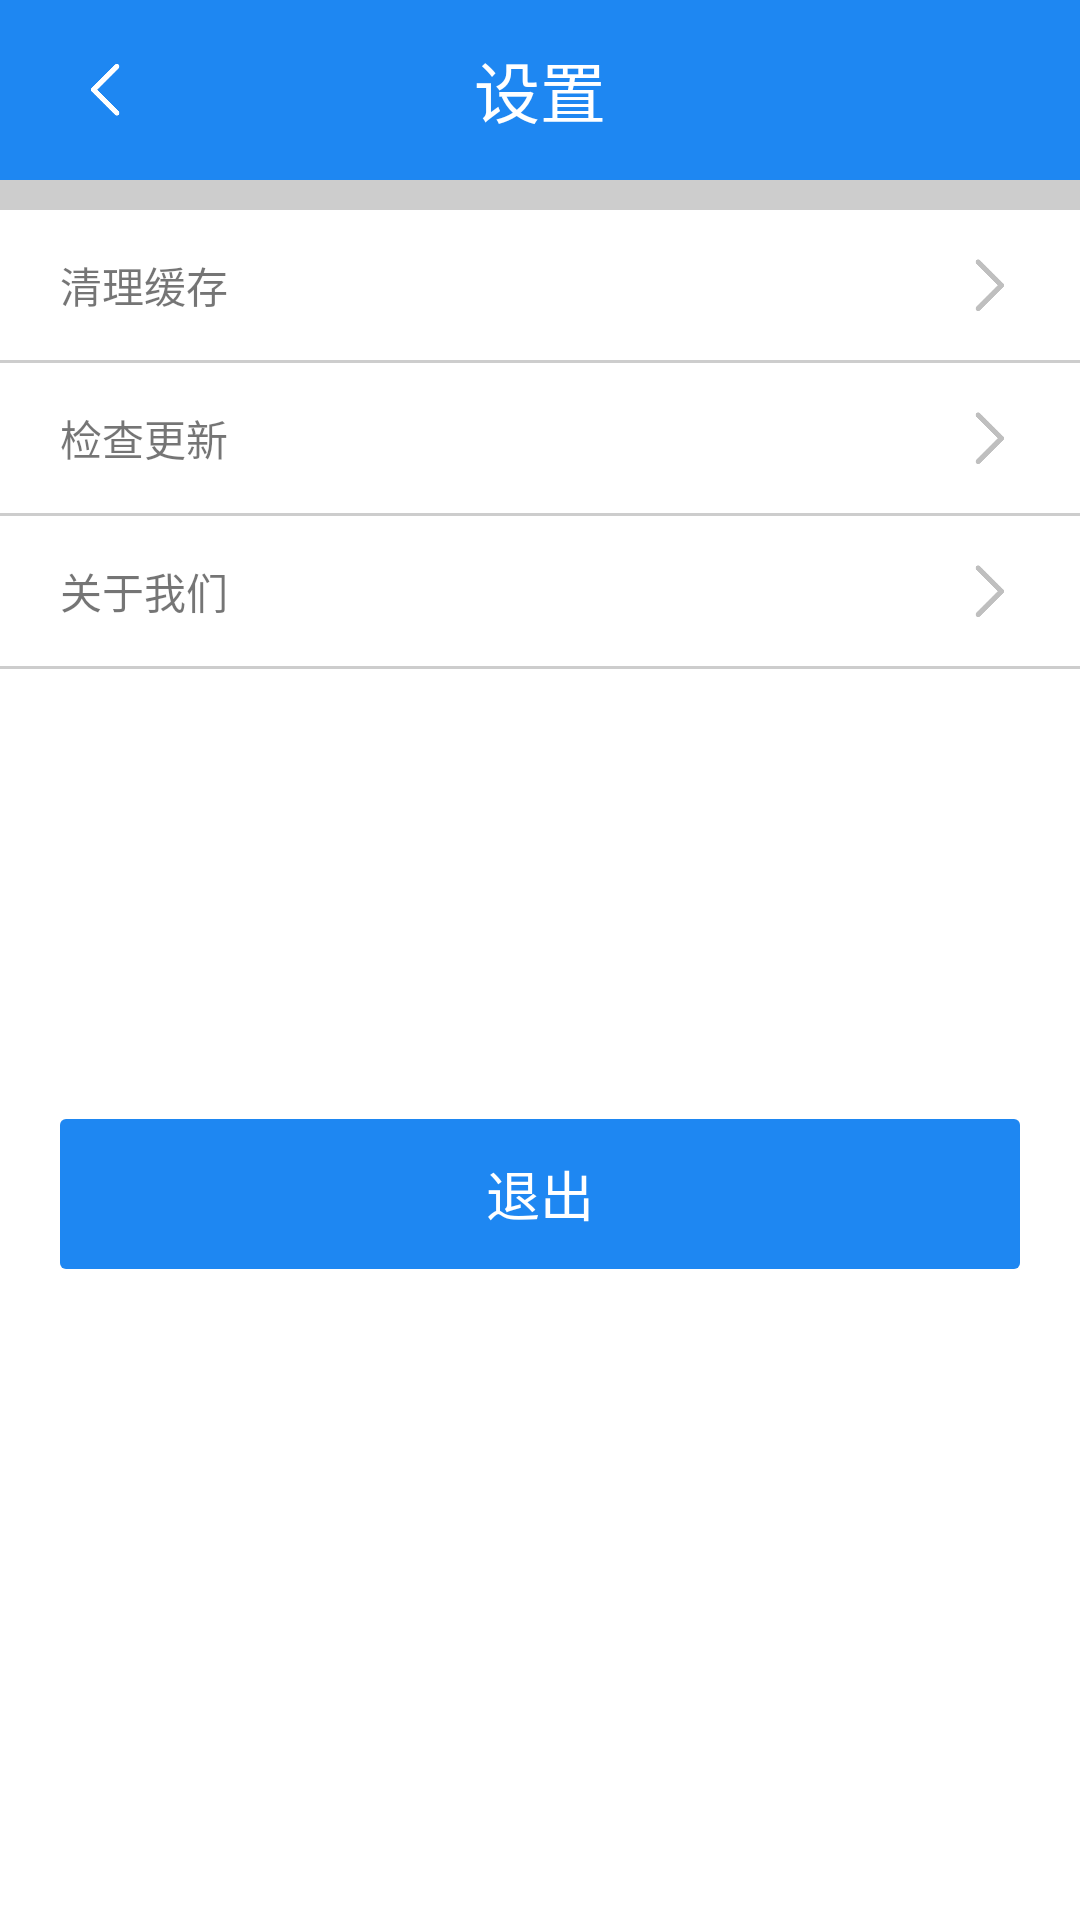

Screen size 1080*1920. Icon name, then its center in pixels as (x=x, y=y):
back: (x=105, y=90)
next: (x=990, y=285), (x=990, y=438), (x=990, y=591)
